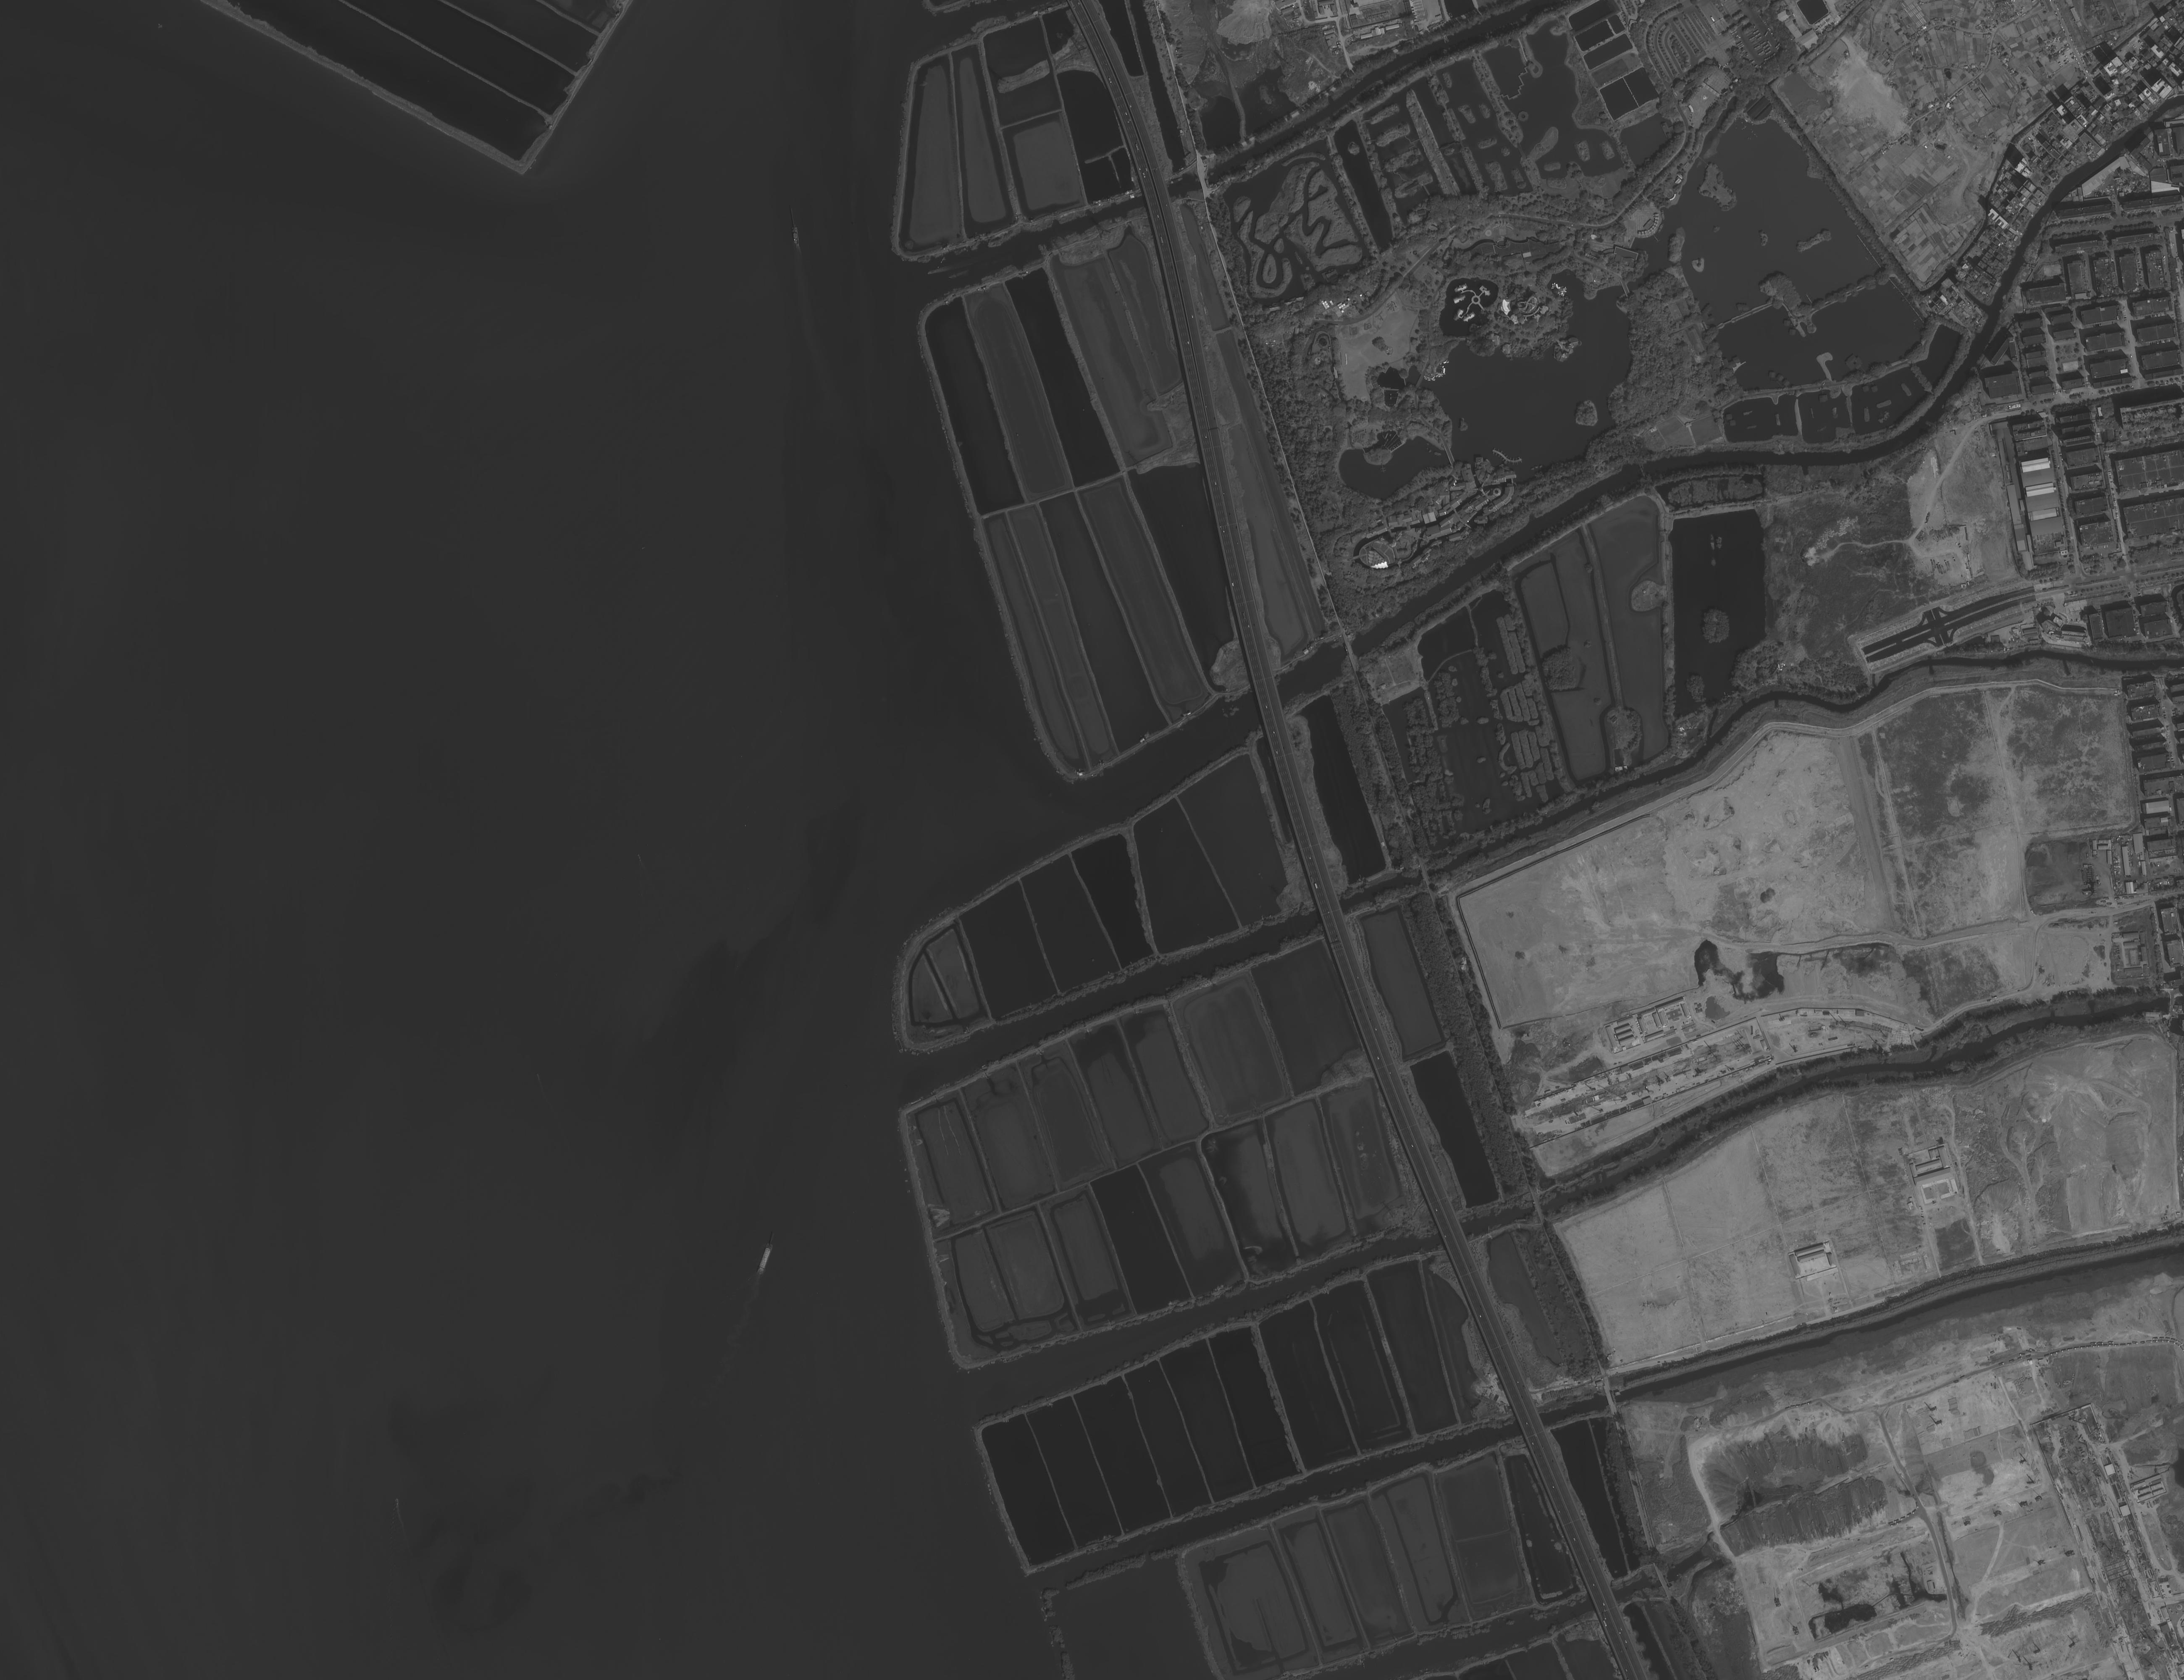ship: (757, 1242, 774, 1274), (792, 226, 799, 244), (928, 270, 937, 275), (395, 1498, 399, 1505)
